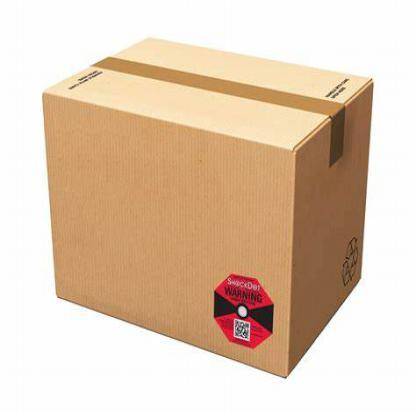package: (41, 32, 381, 384)
